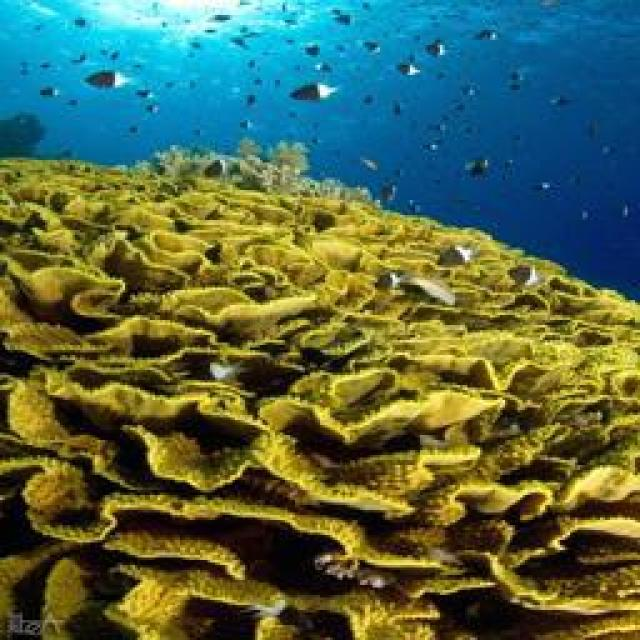fish: (389, 272, 455, 304), (82, 69, 136, 89), (291, 82, 344, 100), (507, 263, 543, 286), (438, 244, 472, 267)
reefs: (0, 140, 638, 638)
